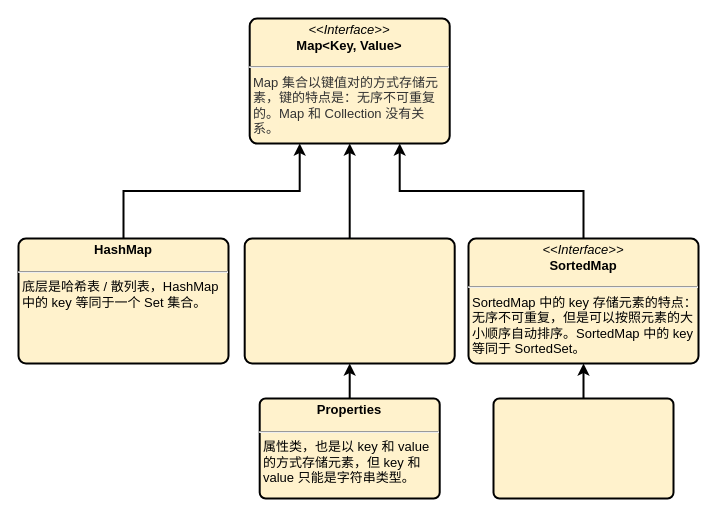
The diagram is 716 pixels wide and 516 high, and some of its shapes have lost their labels. Here are the shapes that lost their labels. From the top down, the centre of each, then its label:
point (349, 300): HashTable 线程安全，效率低。
point (583, 448): TreeMap TreeMap 的 key 就是一个 TreeSet。元素默认按照 key 的自然顺序排序
